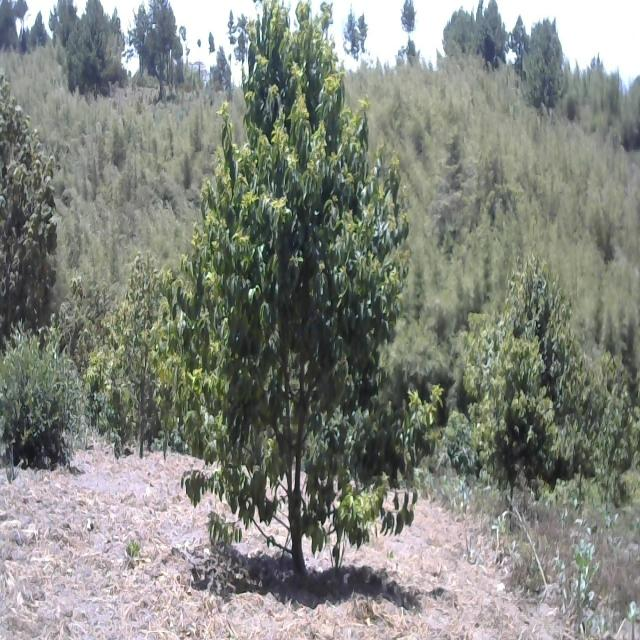Croton machrostychus: (0, 73, 60, 330)
Olea europea -africana-: (1, 320, 72, 458)
Prunus Africana: (196, 0, 430, 604)
